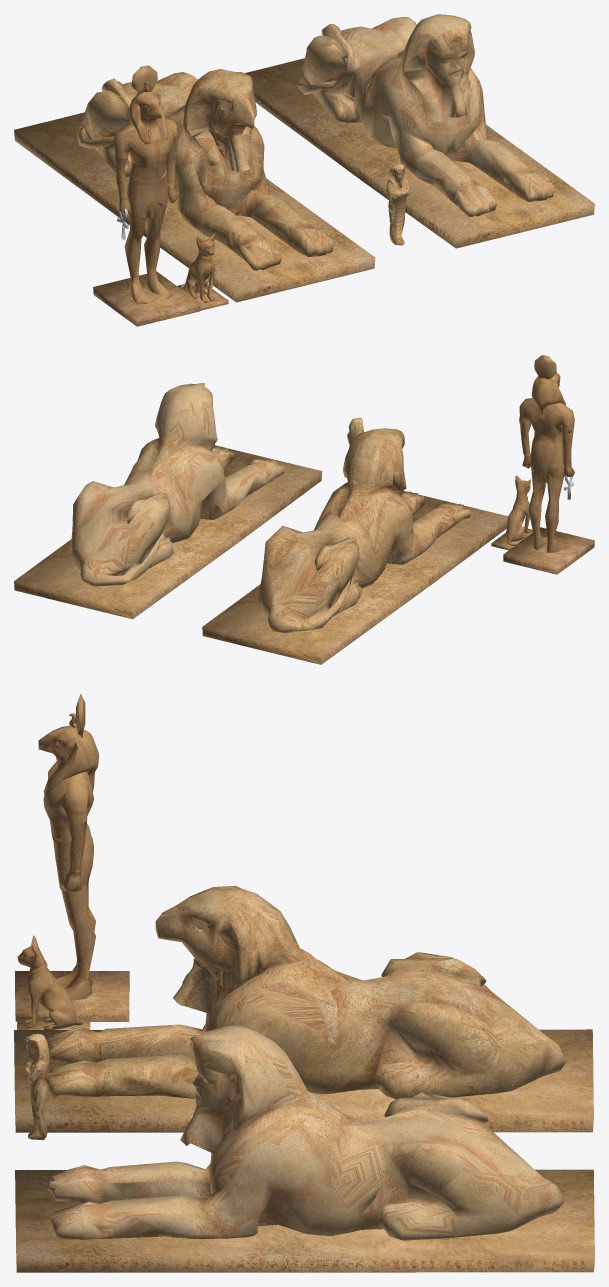
The model's file is egipt_stat.FBX.
3 renders of one model, top to bottom at view 1: azimuth 30°, elevation 25°; view 2: azimuth 150°, elevation 25°; view 3: azimuth 270°, elevation 25°, orthographic. The views are drawn at different scales.
Parts seen in each view (by area): view 1: Human, Falcon, Horus, Bast, MUMMY; view 2: Falcon, Human, Horus, Bast; view 3: Human, Falcon, Horus, Bast, MUMMY.
Boxes of the visible parts, <box> form: Human: <box>245,14,594,248</box>; Falcon: <box>14,69,375,302</box>; Horus: <box>93,65,200,326</box>; Bast: <box>177,233,228,310</box>; MUMMY: <box>386,164,411,245</box>; Falcon: <box>202,428,508,664</box>; Human: <box>14,383,322,619</box>; Horus: <box>503,355,594,574</box>; Bast: <box>491,475,532,550</box>; Human: <box>15,1025,594,1272</box>; Falcon: <box>14,885,593,1132</box>; Horus: <box>15,693,129,1021</box>; Bast: <box>17,935,90,1029</box>; MUMMY: <box>24,1033,49,1140</box>.
Bounding box in the file's own units: 599 × 294 × 504.
